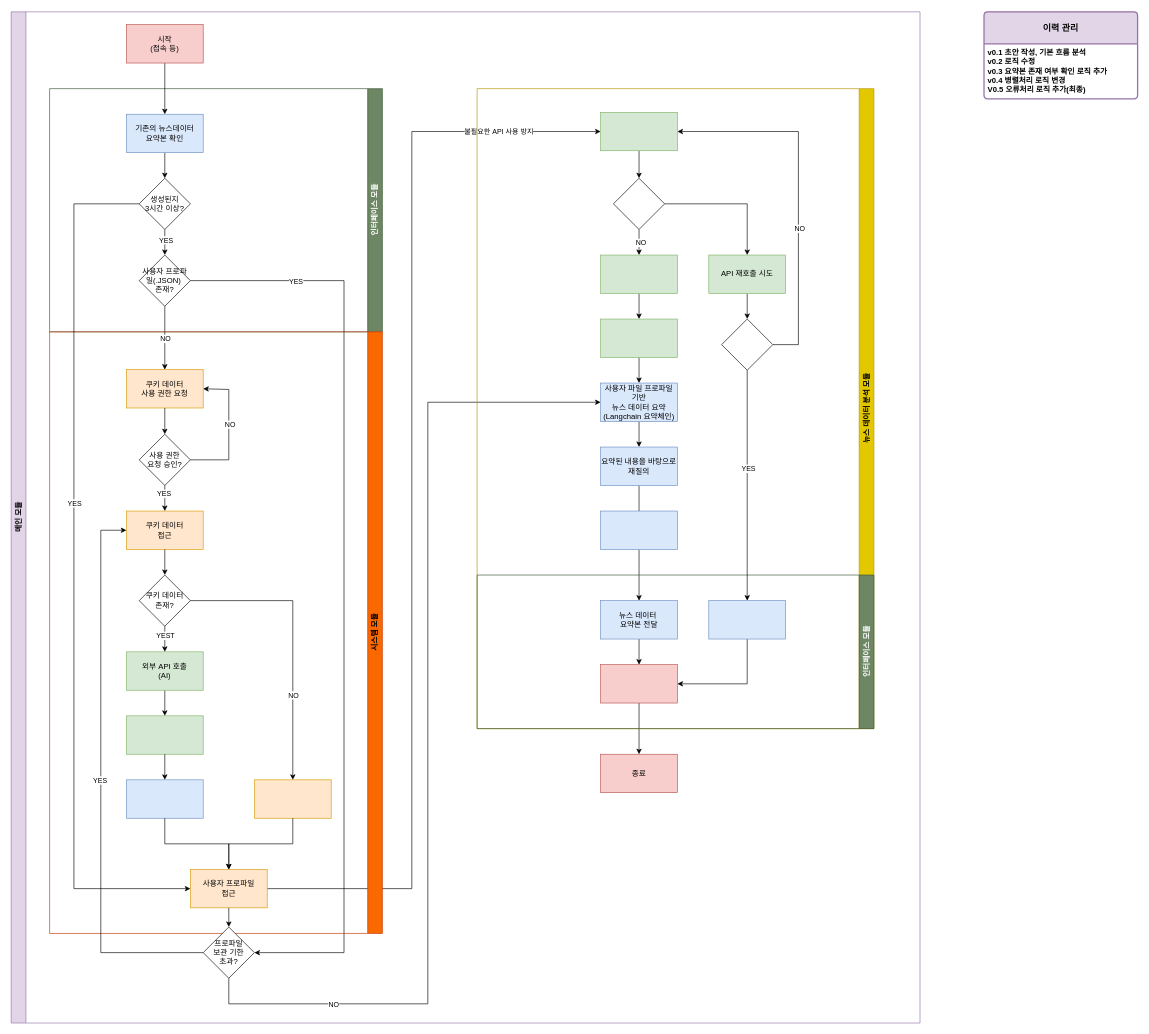
Image size: 1149x1034. Some labels were removed from this diagram. Here are the shapes that lost their labels. From the top down, the box of each, then its label:
(600, 112, 677, 151): 외부 API 호출 (AI, 뉴스 API)
(613, 178, 665, 229): API 접근 실패
(600, 254, 677, 293): 뉴스 데이터 크롤링
(600, 318, 677, 357): AI 호출
(721, 318, 773, 370): 3회?
(600, 510, 677, 549): 뉴스 데이터 요약본 생성 (Langchain 재질의 체인)
(708, 600, 786, 639): 서비스 불가 안내
(600, 664, 677, 703): 출력
(126, 715, 203, 754): 쿠키 데이터 분석
(126, 779, 203, 818): 개인화된 사용자 프로파일 생성
(254, 779, 331, 818): 디폴트 사용자 프로파일 생성
